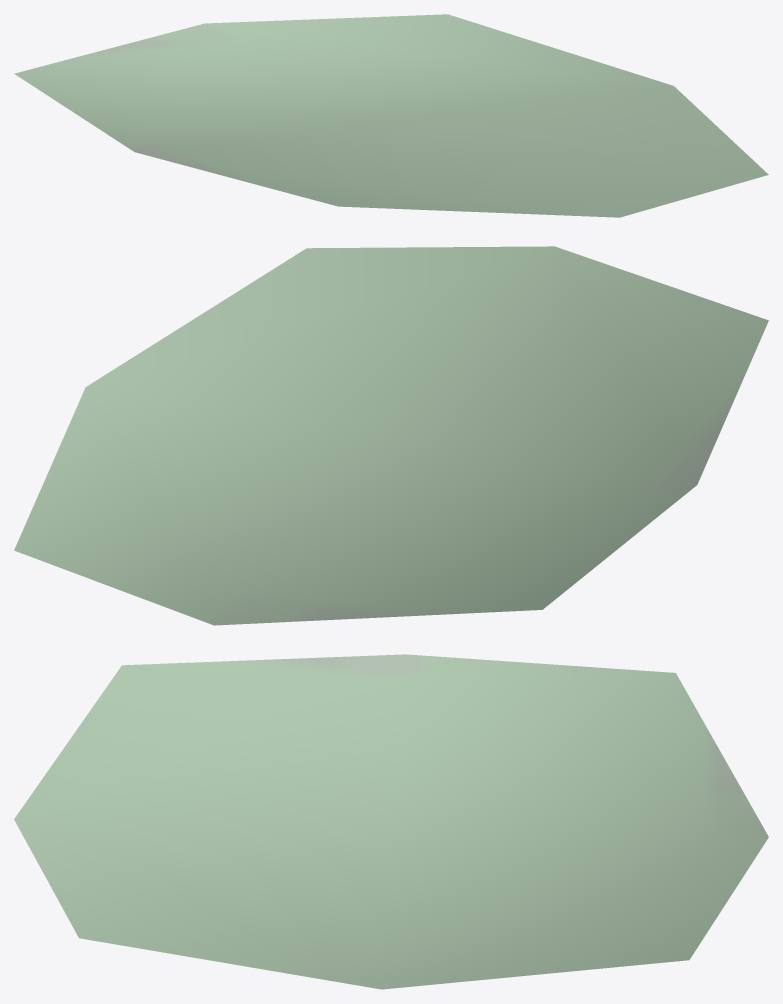
Rendered from TROLLHOLE02_HOLECAP104.fbx.
The picture shows the model from 3 angles, top to bottom: view 1: azimuth 30°, elevation 25°; view 2: azimuth 150°, elevation 25°; view 3: azimuth 270°, elevation 25°; orthographic projection. The views are drawn at different scales.
Visible parts, largest first — view 1: TROLLHOLE02_HOLECAP104; view 2: TROLLHOLE02_HOLECAP104; view 3: TROLLHOLE02_HOLECAP104.
Boxes of the visible parts, box(x1,y1,x2,y2) form: TROLLHOLE02_HOLECAP104: box(14, 14, 768, 217); TROLLHOLE02_HOLECAP104: box(14, 246, 768, 625); TROLLHOLE02_HOLECAP104: box(14, 654, 768, 989).
Size of the model in its own units: 23555 by 3931 by 27155.
Materials: 1 (1 with a texture image).
